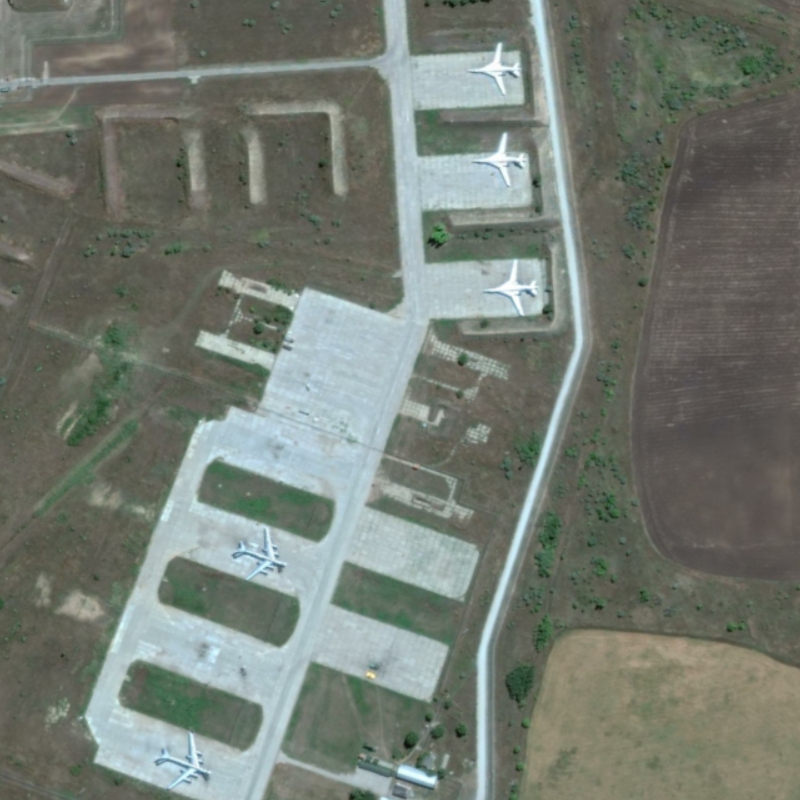A17: (152, 727, 215, 795), (227, 522, 290, 584)
A6: (477, 251, 543, 320), (469, 125, 529, 189), (464, 37, 524, 96)
